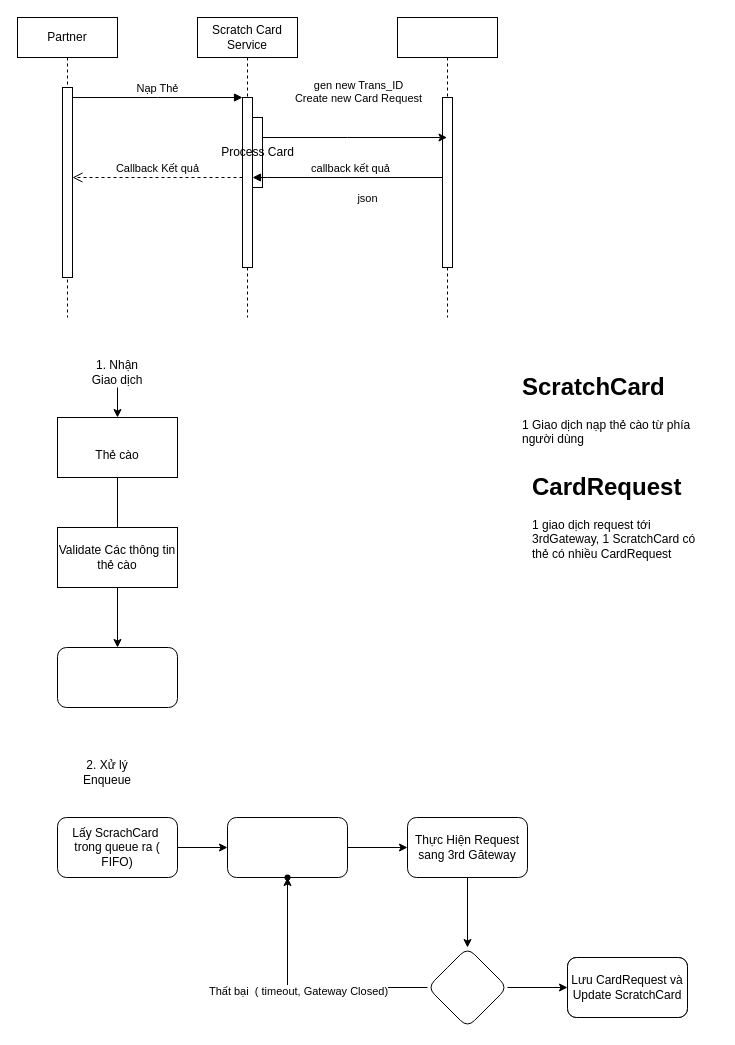
Some shapes in this 735 by 1045 pixel diagram are drawn without their labels. Here are the shapes that lost their labels. From the top down, the box of each, then its label:
(396, 16, 498, 318): 3rd Gateway
(56, 646, 178, 708): Lưu vào Enque giao dịch ( gửi lại response đã ghi nhận thẻ thành công )
(226, 816, 348, 878): Đọc Config trong DB để điều hướng
(426, 946, 508, 1028): Gọi thành công
